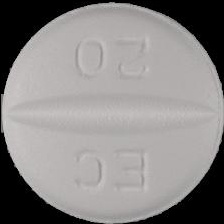51079-544: (0, 0, 224, 224)
